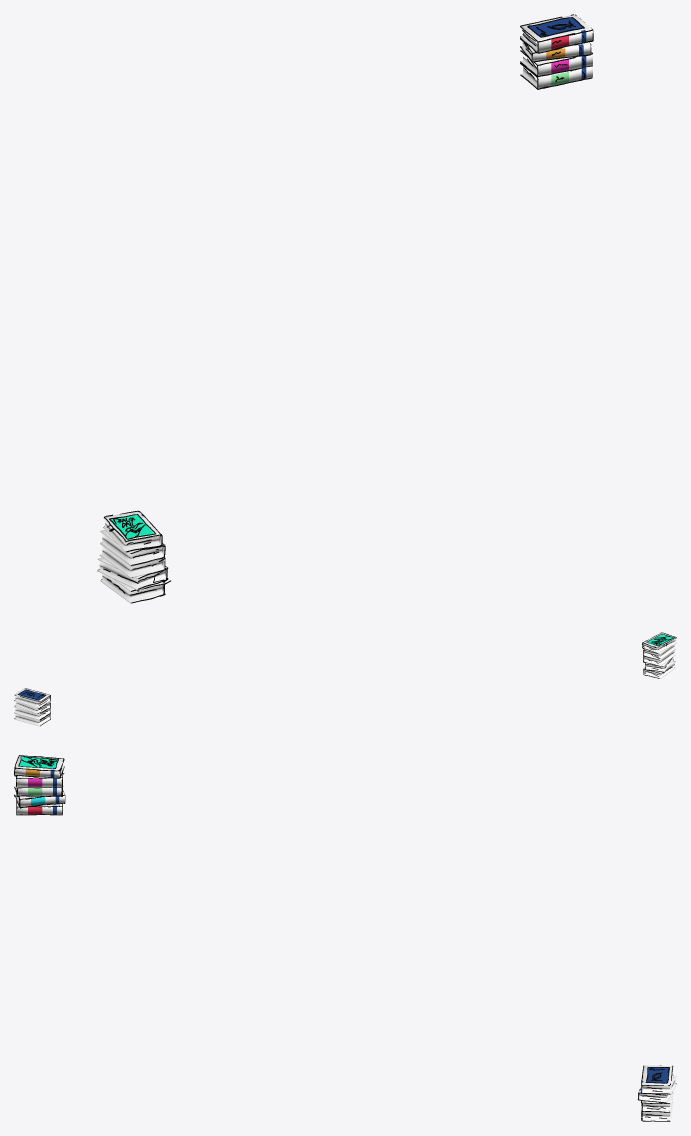
The model's file is manga.glb.
3 renders of one model, top to bottom at view 1: azimuth 30°, elevation 25°; view 2: azimuth 150°, elevation 25°; view 3: azimuth 270°, elevation 25°, orthographic. The views are drawn at different scales.
Parts seen in each view (by area): view 1: MANGA 1, MANGA 2, lines_manga2, lines_manga 1; view 2: MANGA 1, MANGA 2, lines_manga 1, lines_manga2; view 3: MANGA 1, MANGA 2, lines_manga 1, lines_manga2.
Boxes of the visible parts, x1,y1,x2,y2 form: MANGA 1: (97,511,167,603); MANGA 2: (520,14,592,88); lines_manga2: (520,14,593,89); lines_manga 1: (97,510,170,603); MANGA 1: (642,633,676,678); MANGA 2: (14,688,50,726); lines_manga 1: (642,632,676,678); lines_manga2: (14,688,50,726); MANGA 1: (14,756,64,814); MANGA 2: (638,1065,676,1121); lines_manga 1: (14,755,65,815); lines_manga2: (637,1065,676,1121).
Bounding box in the file's own units: 4.03 × 0.2755 × 3.5.
